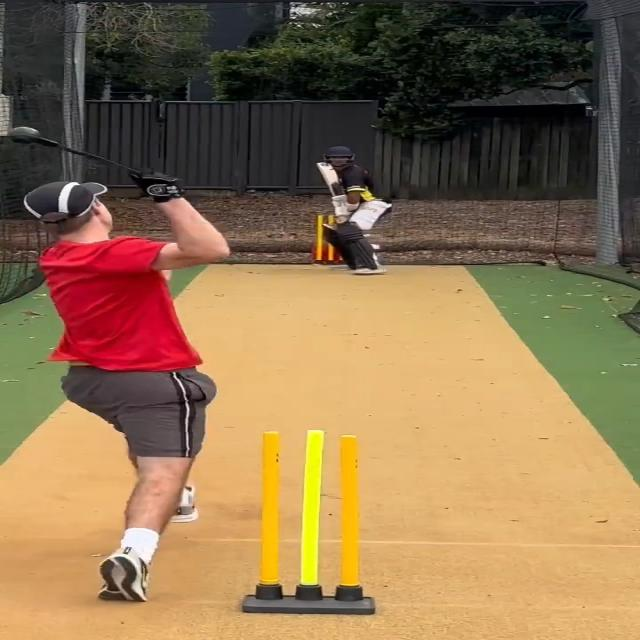stump: (242, 428, 374, 614)
